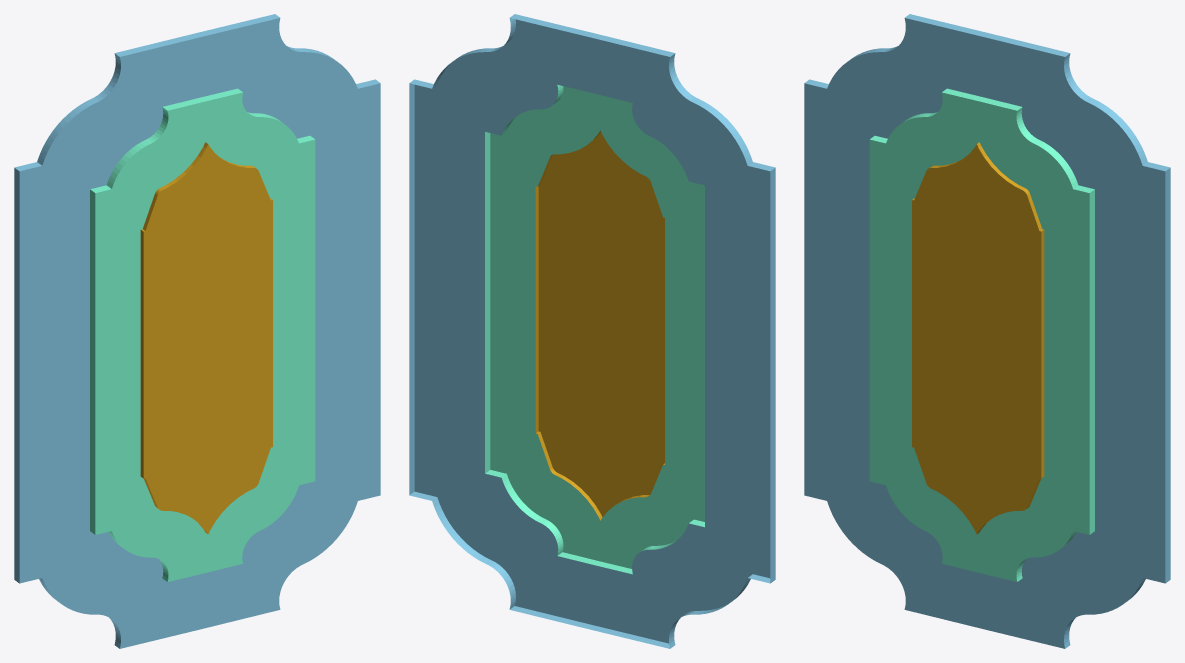
File: Prop_Building_Eastern_Ornamental_Facade_Block_01.FBX
The picture shows the model from 3 angles, left to right: view 1: azimuth 30°, elevation 25°; view 2: azimuth 150°, elevation 25°; view 3: azimuth 330°, elevation 25°; orthographic projection.
Parts seen in each view (by area): view 1: Prop_Building_Eastern_Ornamental_Facade_Block_01; view 2: Prop_Building_Eastern_Ornamental_Facade_Block_01; view 3: Prop_Building_Eastern_Ornamental_Facade_Block_01.
Boxes of the visible parts, bbox=[...] form: Prop_Building_Eastern_Ornamental_Facade_Block_01: bbox=[14, 14, 380, 648]; Prop_Building_Eastern_Ornamental_Facade_Block_01: bbox=[409, 14, 775, 648]; Prop_Building_Eastern_Ornamental_Facade_Block_01: bbox=[804, 14, 1170, 648].
Bounding box in the file's own units: 1850 × 2898 × 119.
